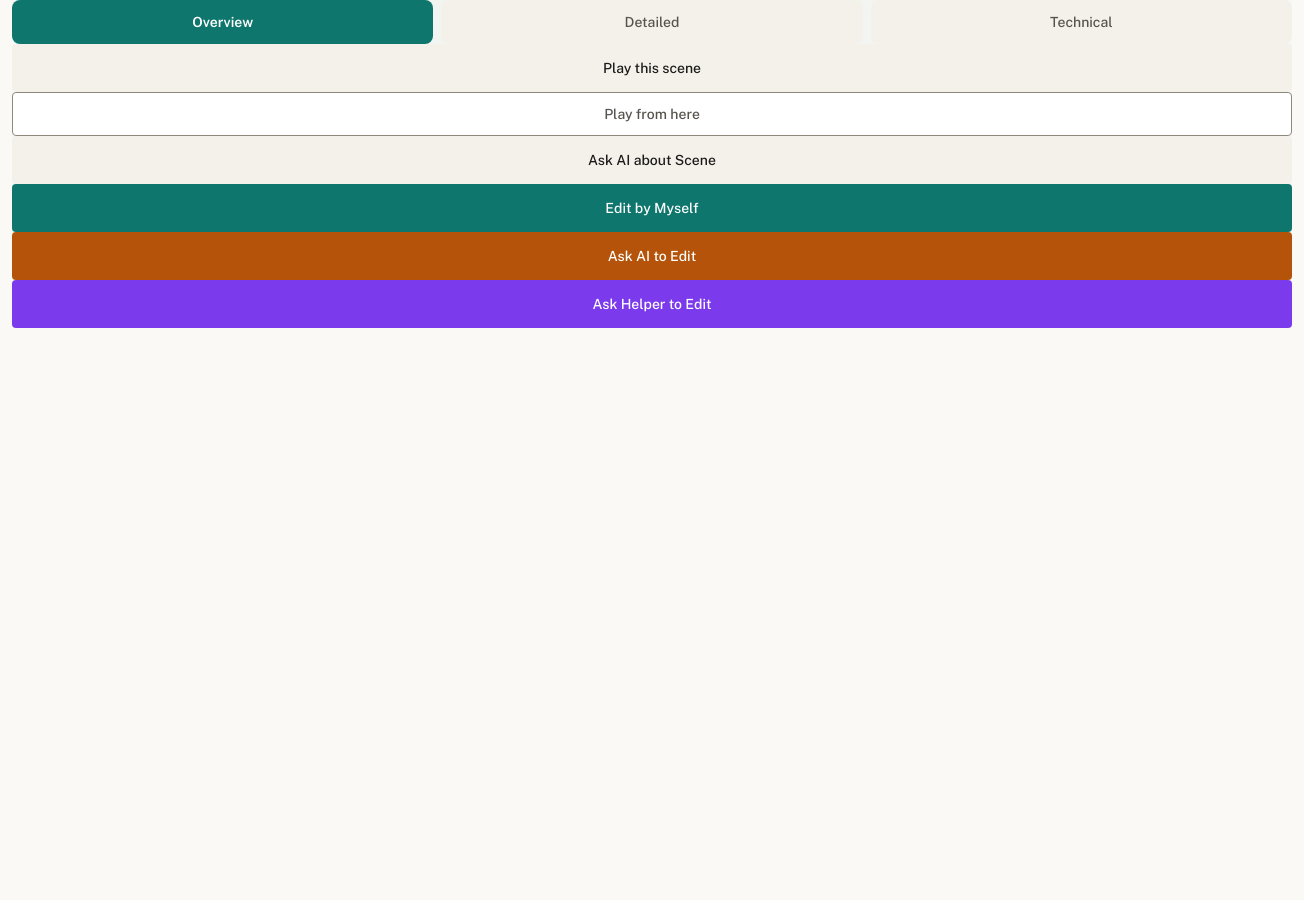
Test: SceneActions — edit by myself › the clip-count line reflects multiple clips after a split (allClips has split halves)
The width and height of the screenshot is (1304, 900).
Click the button "Edit by Myself".
click(652, 208)  # box x1=12 y1=184 x2=1292 y2=232
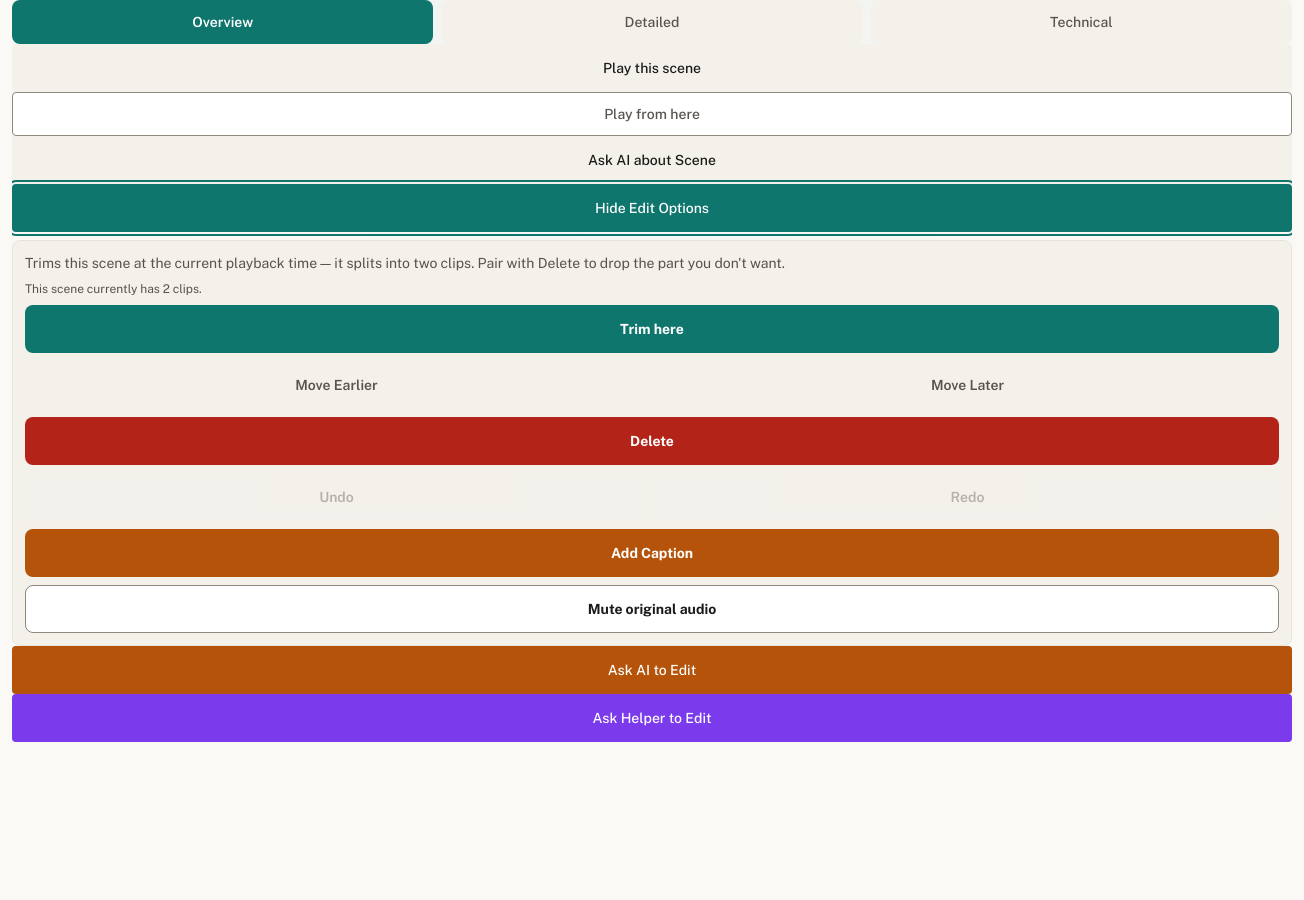
Expected: the text "This scene currently has 2 clips." is shown, x1=25 y1=282 x2=202 y2=296
